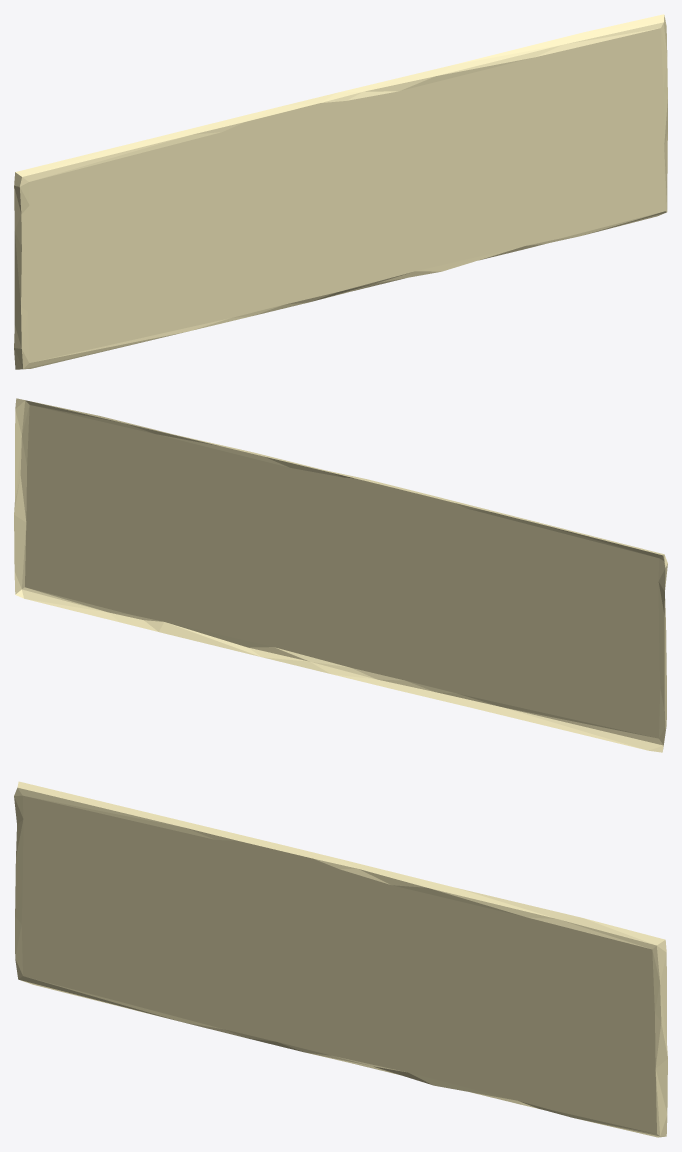
File: ui_panel_10x3.glb
3 views of the same model, one above another, from view 1: azimuth 30°, elevation 25°; view 2: azimuth 150°, elevation 25°; view 3: azimuth 330°, elevation 25° (orthographic).
Parts seen in each view (by area): view 1: Cube; view 2: Cube; view 3: Cube.
Boxes of the visible parts, left/top/right/bottom form: Cube: left=14, top=14, right=667, bottom=369; Cube: left=14, top=398, right=667, bottom=752; Cube: left=14, top=781, right=667, bottom=1137.
Size of the model in its own units: 1.98 by 0.5867 by 0.028.
